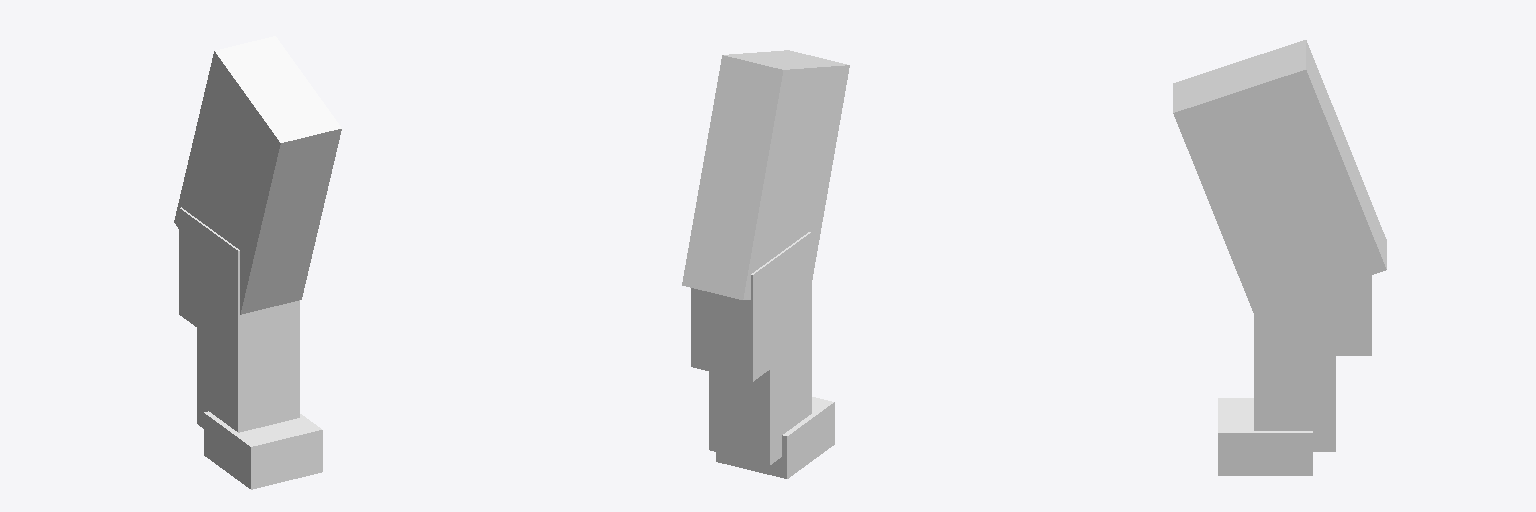
The model's file is lion_front_left_leg.obj.
3 views of the same model, side by side, from view 1: azimuth 30°, elevation 25°; view 2: azimuth 150°, elevation 25°; view 3: azimuth 270°, elevation 25° (orthographic).
Parts seen in each view (by area): view 1: Element #11, Element #13, Element #24, Element #12; view 2: Element #11, Element #12, Element #13, Element #24; view 3: Element #11, Element #12, Element #13, Element #24.
Part boxes in pixels (bbox=[...]): Element #11: bbox=[174, 36, 341, 314]; Element #13: bbox=[197, 285, 299, 432]; Element #24: bbox=[204, 411, 322, 489]; Element #12: bbox=[179, 207, 299, 356]; Element #11: bbox=[682, 50, 849, 299]; Element #12: bbox=[691, 232, 811, 381]; Element #13: bbox=[709, 296, 811, 464]; Element #24: bbox=[716, 397, 834, 478]; Element #11: bbox=[1173, 40, 1386, 313]; Element #12: bbox=[1254, 275, 1371, 355]; Element #13: bbox=[1254, 356, 1335, 451]; Element #24: bbox=[1218, 398, 1312, 475].
Size of the model in its own units: 3.5 by 18.95 by 9.06.